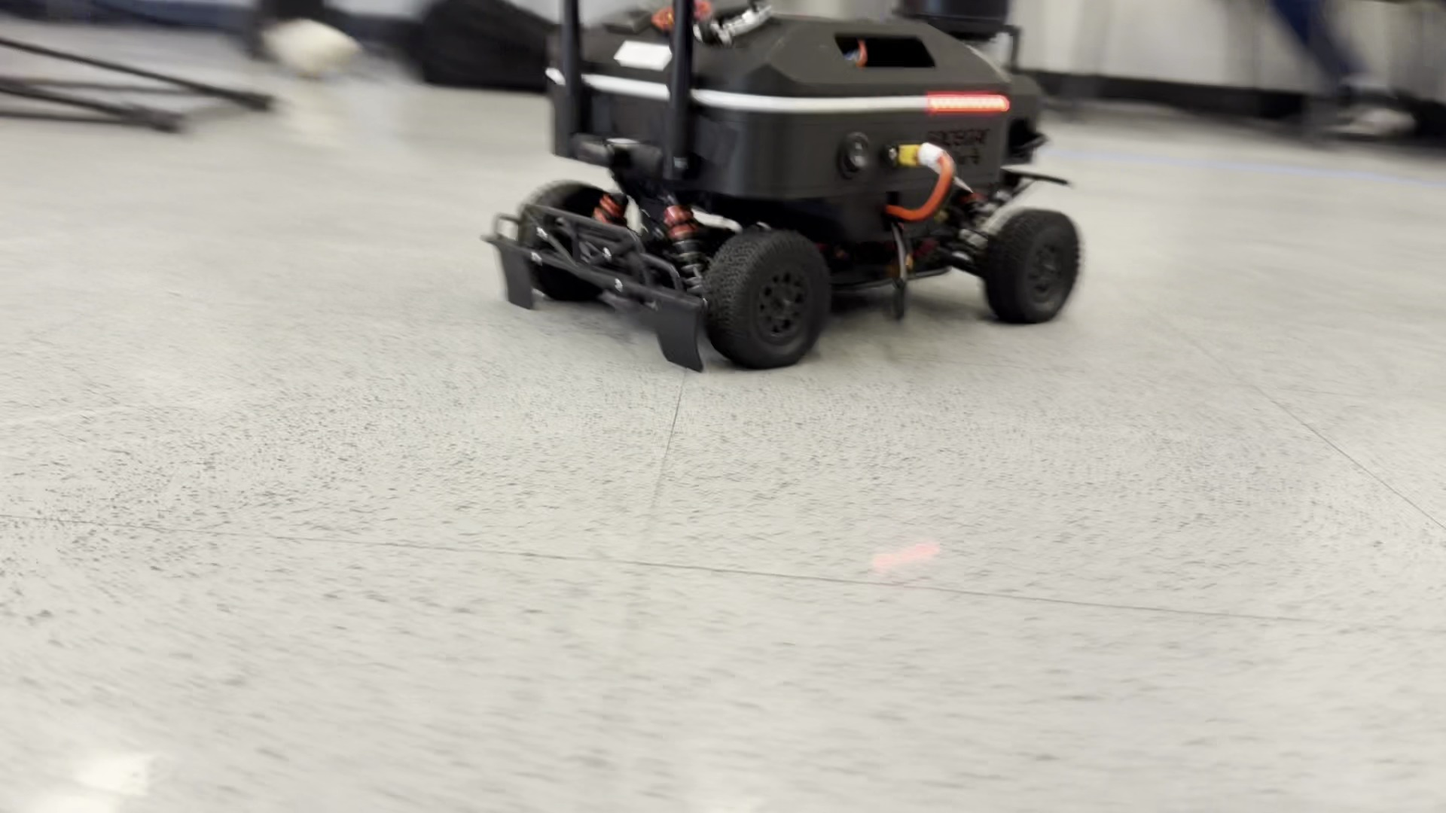racecar: (481, 0, 1081, 377)
